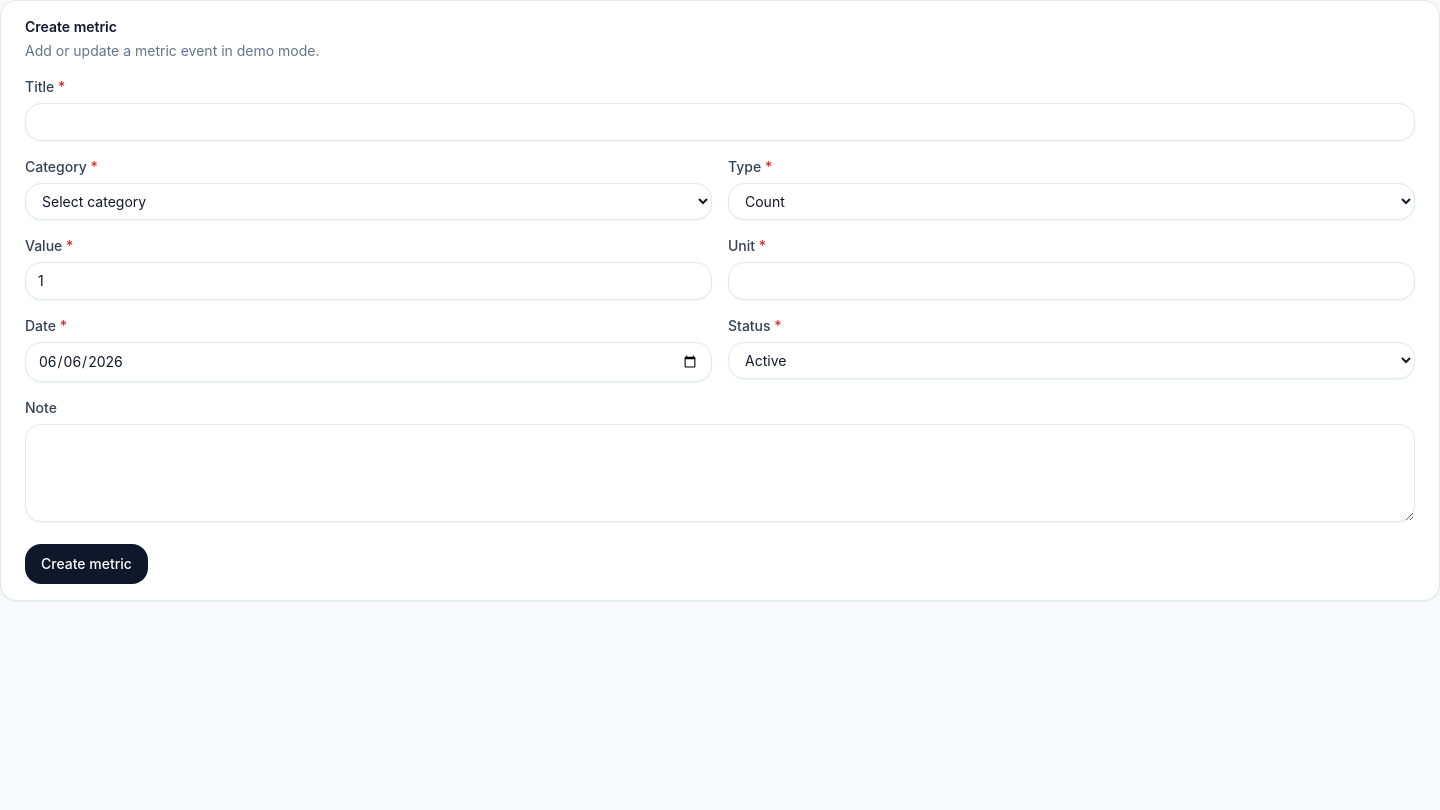
MetricForm › submits a valid metric
Expected: the dropdown labelled "Category *" is shown, [25, 183, 712, 220]
Step 1. Type "Evening walk" into the field labelled "Title *" → (720, 122), box [25, 103, 1415, 141]
Step 2. Select "Health" in the dropdown labelled "Category *" → (368, 202), box [25, 183, 712, 220]
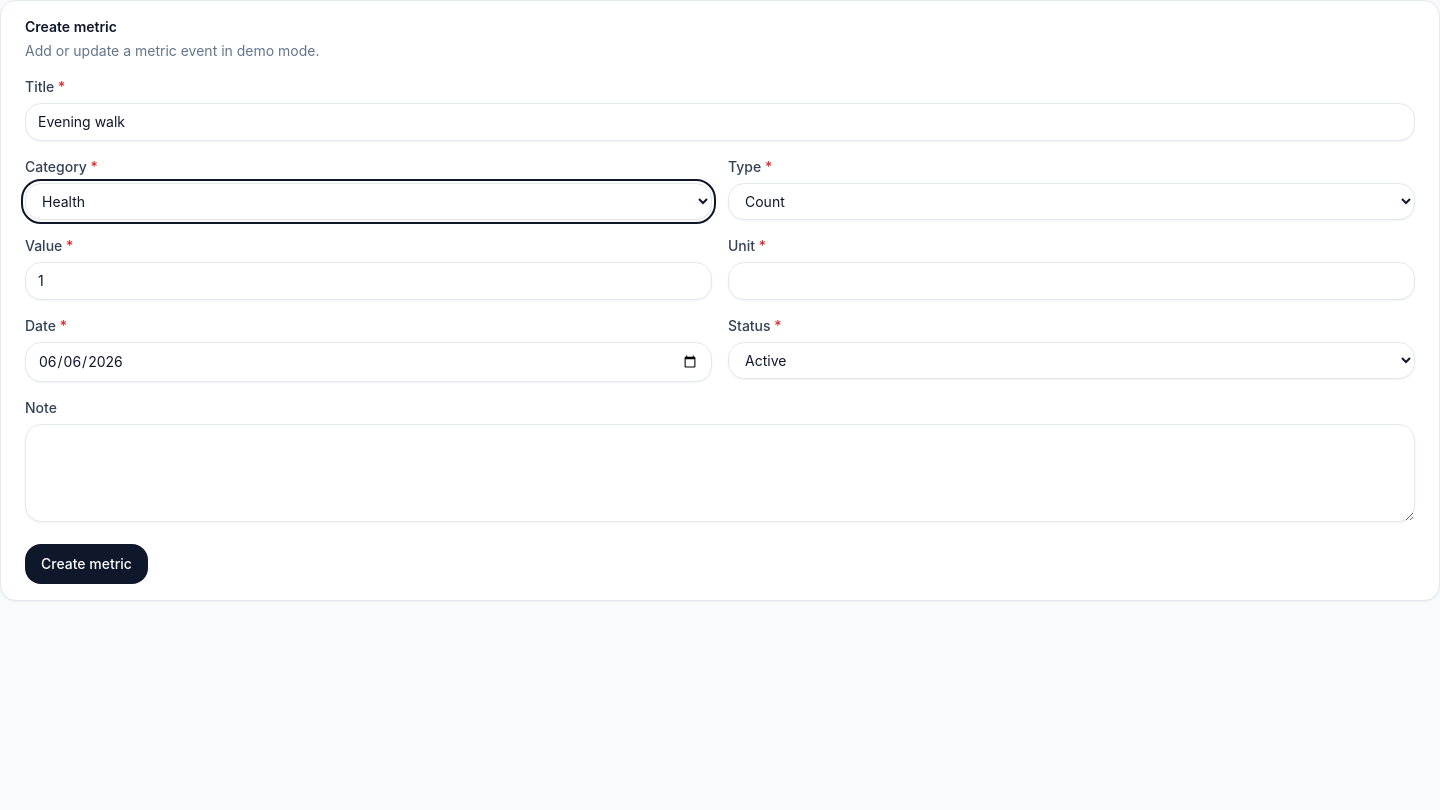
Step 3. Select "Duration" in the dropdown labelled "Type *" → (1072, 202), box [728, 183, 1415, 220]
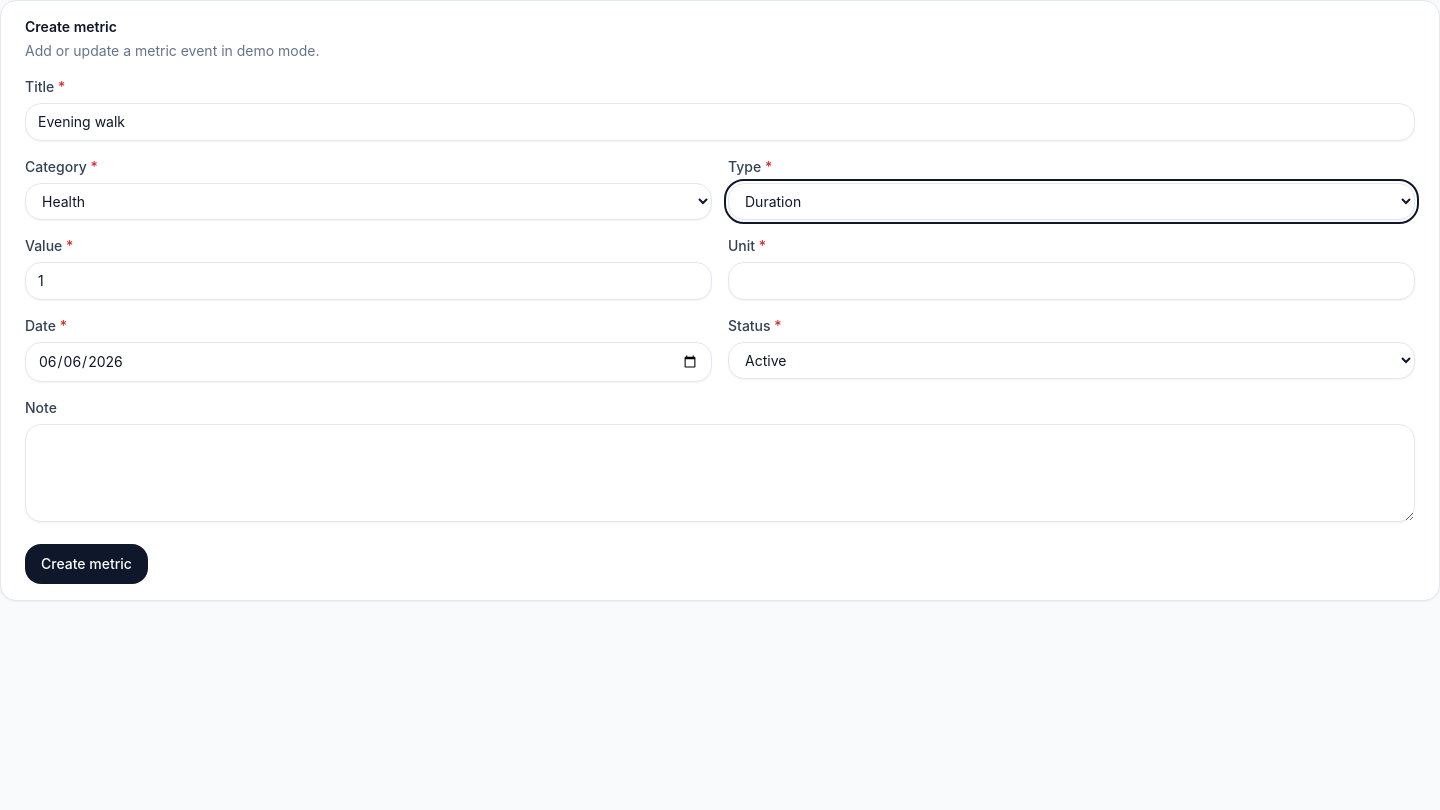
Step 4. Replace the text in the number field labelled "Value *" with "20" → (368, 281), box [25, 262, 712, 300]
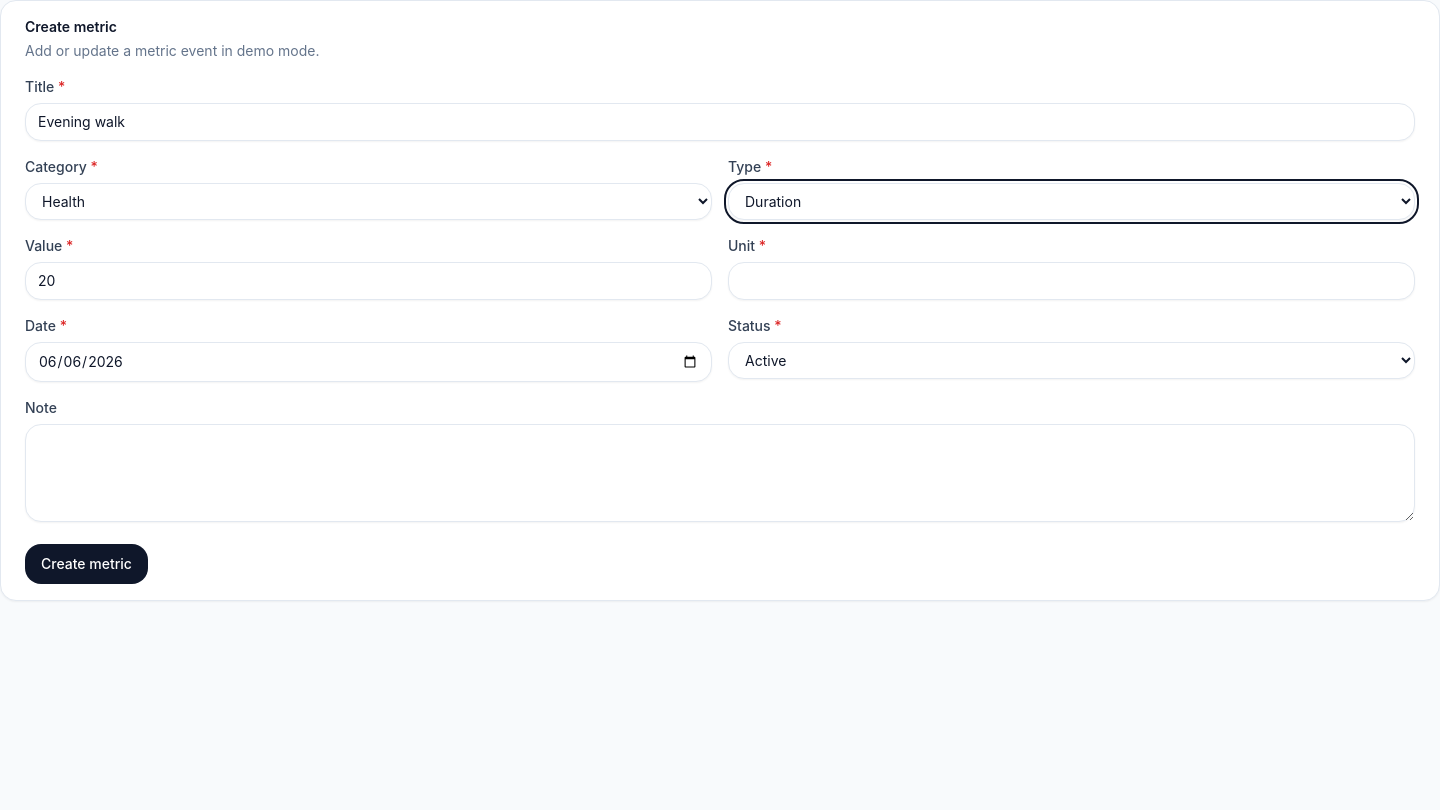
Step 5. Type "min" into the field labelled "Unit *" → (1072, 281), box [728, 262, 1415, 300]
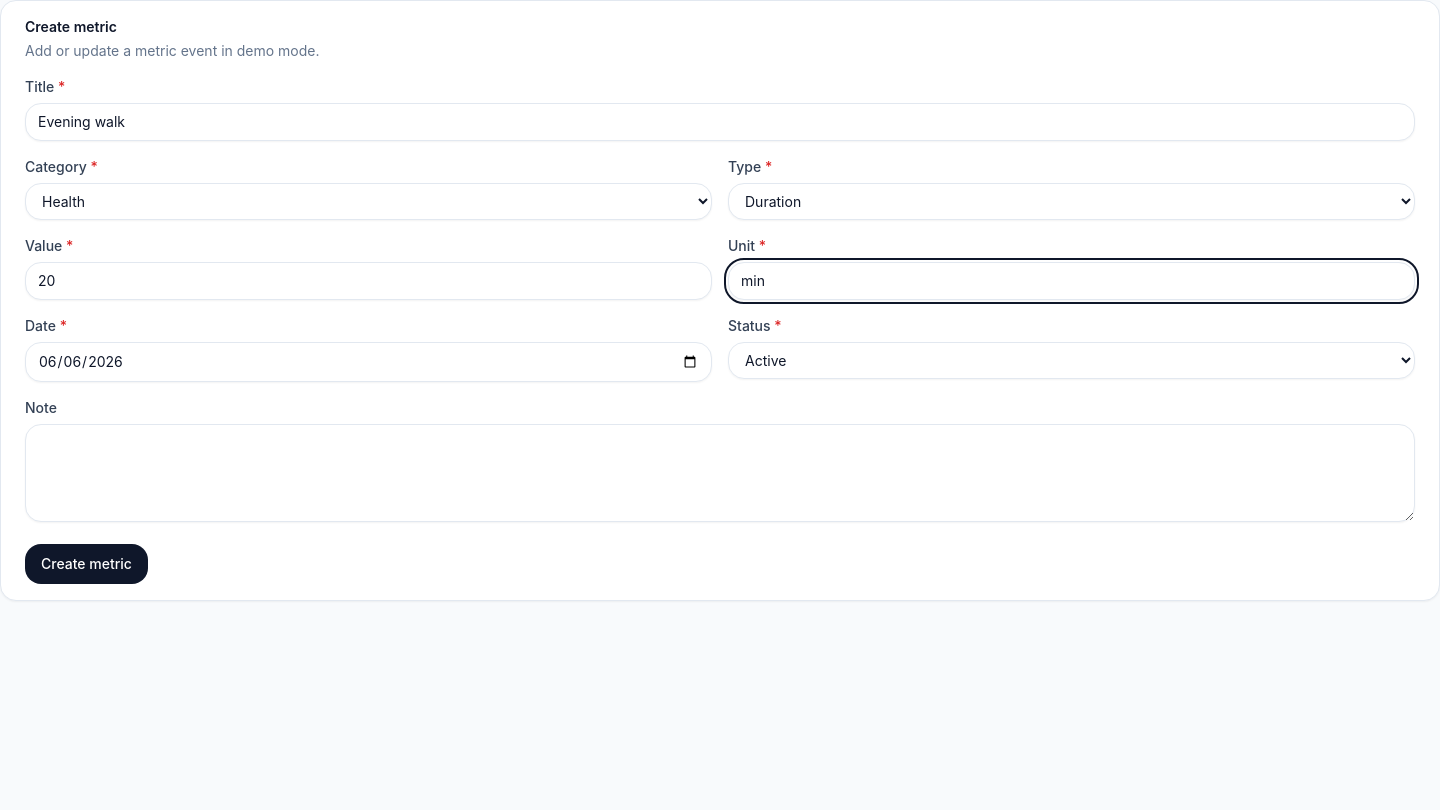
Step 6. Type "2026-06-05" into the date field labelled "Date *" → (368, 362), box [25, 342, 712, 382]
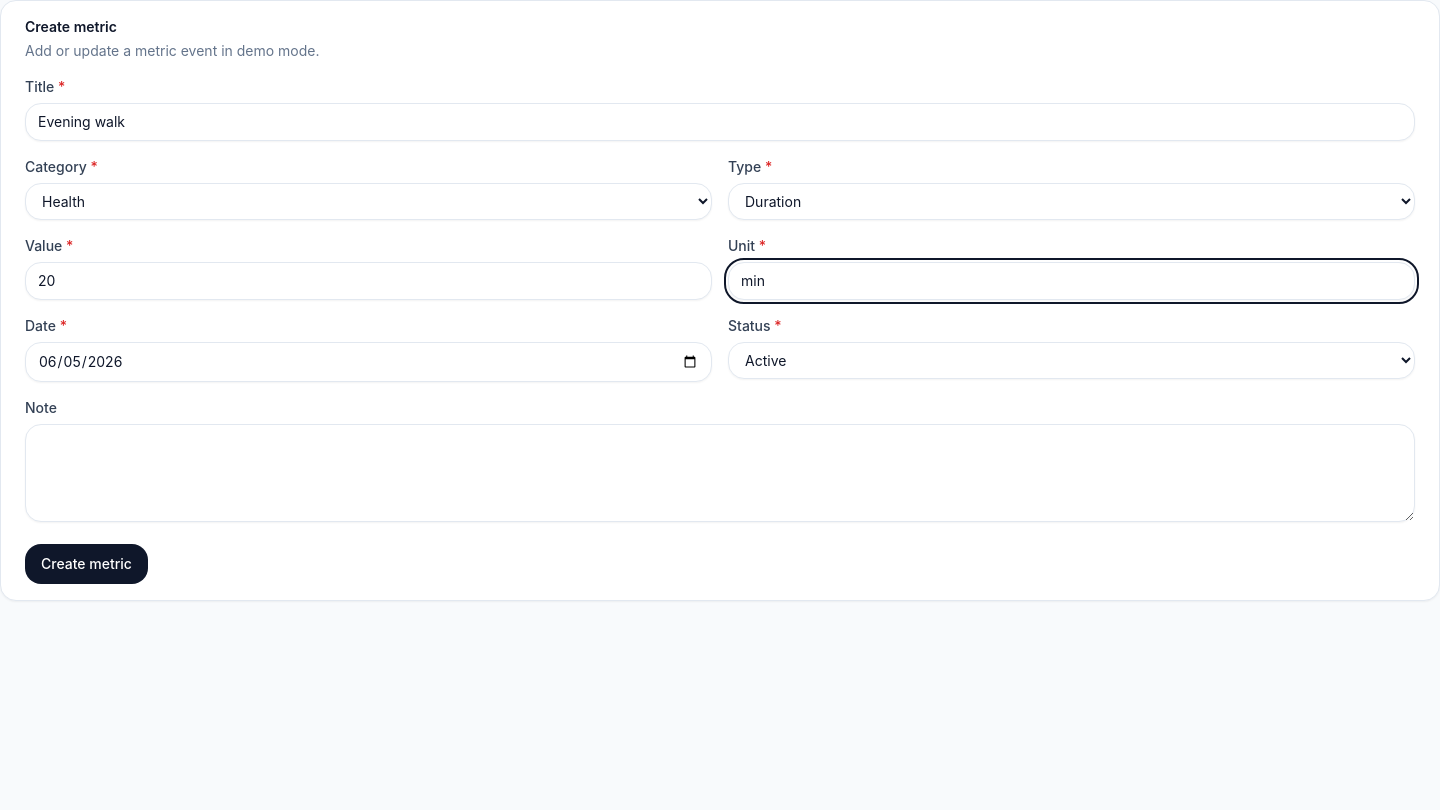
Step 7. Click the button "Create metric" → (86, 564), box [25, 544, 148, 584]
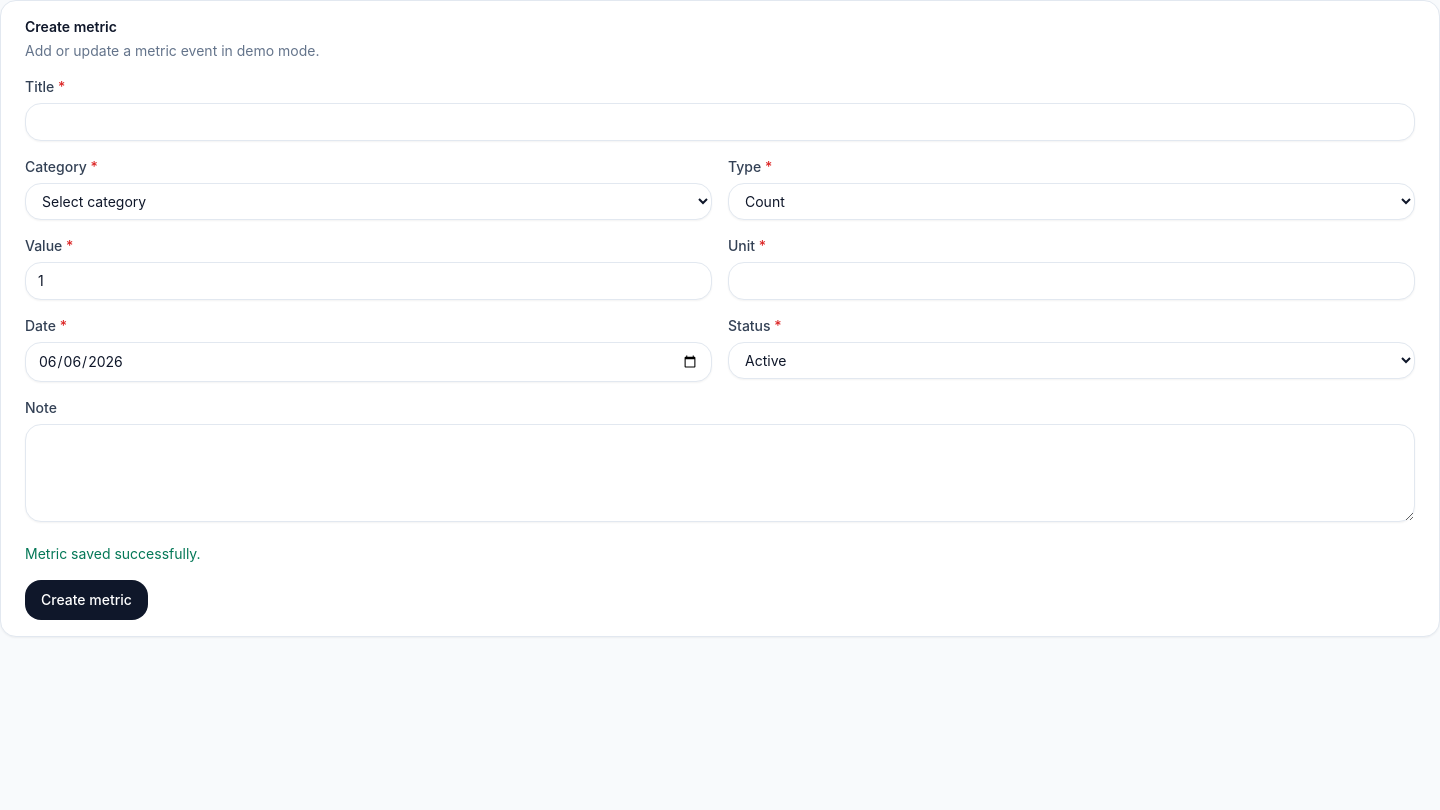
Expected: the text "Metric saved successfully." is shown, [25, 545, 201, 562]
